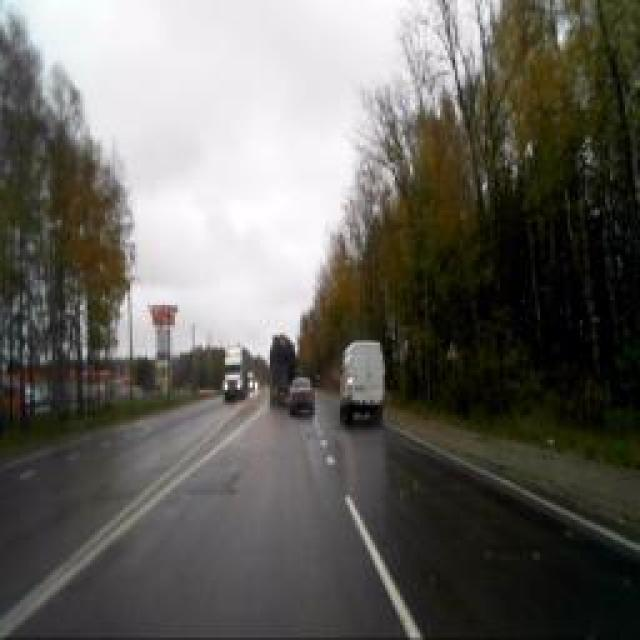sign: (446, 340, 459, 362)
